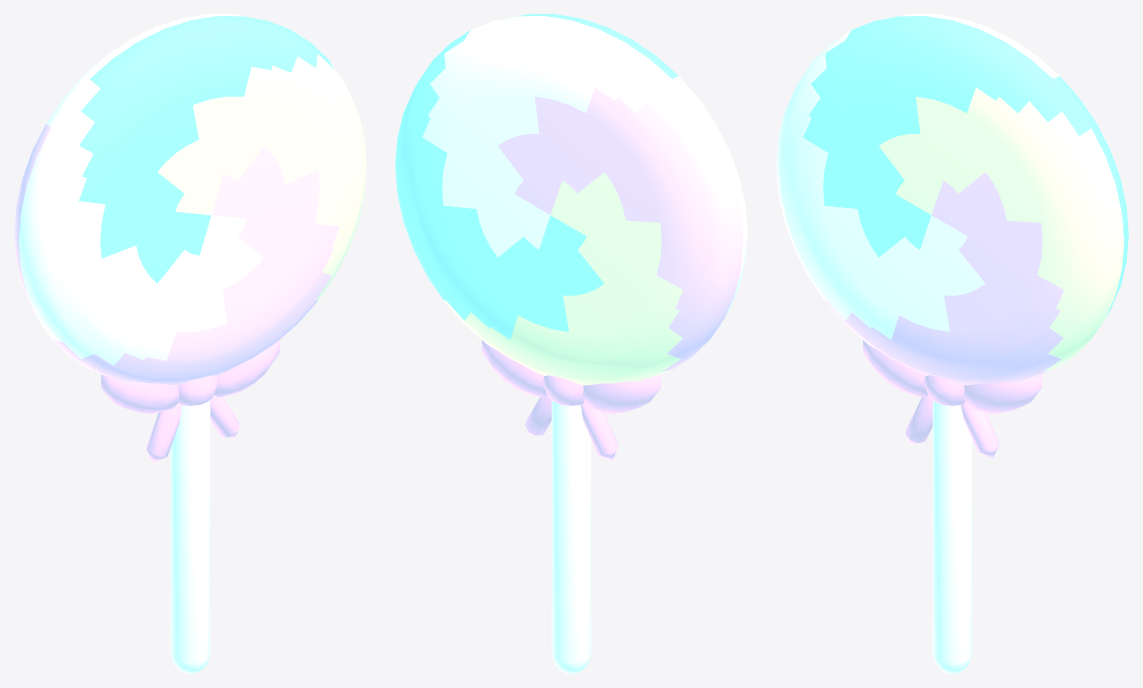
File: props__CandyLollipop.glb
The picture shows the model from 3 angles, left to right: view 1: azimuth 30°, elevation 25°; view 2: azimuth 150°, elevation 25°; view 3: azimuth 330°, elevation 25°; orthographic projection.
Visible parts, largest first — view 1: CandyLollipop; view 2: CandyLollipop; view 3: CandyLollipop.
Part boxes in pixels (x1,y1,x2,y2): CandyLollipop: [14, 14, 366, 673]; CandyLollipop: [395, 14, 747, 673]; CandyLollipop: [776, 14, 1128, 673].
Bounding box in the file's own units: 6.8 × 12.34 × 1.44.
